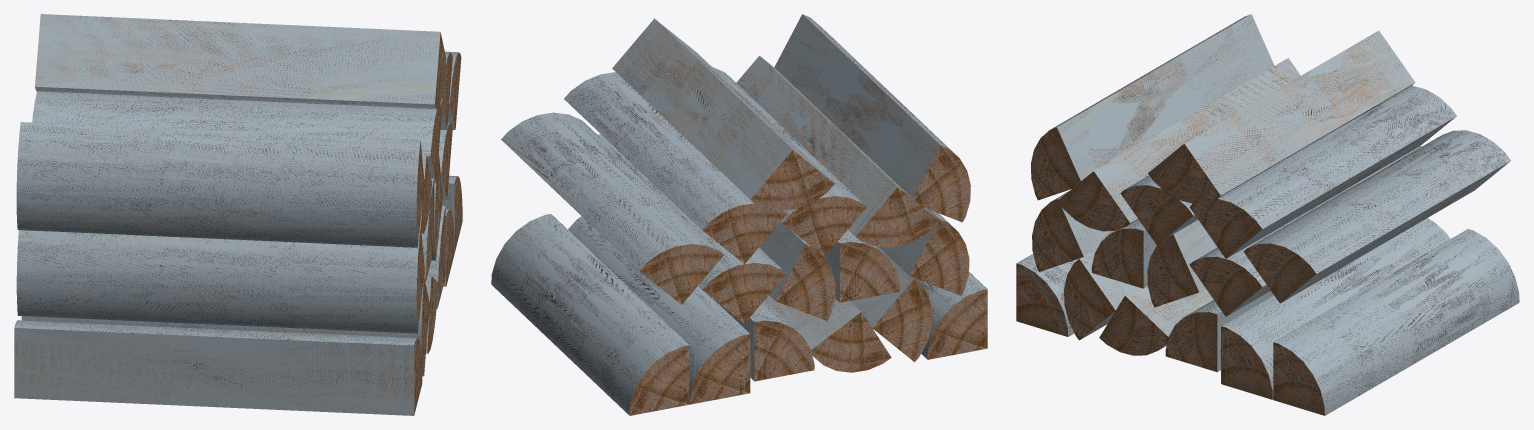
The model's file is Split_firewood_1.fbx.
3 renders of one model, left to right at view 1: azimuth 30°, elevation 25°; view 2: azimuth 150°, elevation 25°; view 3: azimuth 270°, elevation 25°, orthographic. The views are drawn at different scales.
Visible parts, largest first — view 1: Log16, Log6, Log1, Log15, Log10, Log2, Log4, Log12, Log9, Log5, Log13, Log3 (+4 smaller); view 2: Log12, Log13, Log15, Log16, Log14, Log11, Log8, Log3, Log7, Log9, Log10, Log1 (+4 smaller); view 3: Log12, Log13, Log15, Log16, Log14, Log8, Log11, Log3, Log7, Log9, Log1, Log2 (+4 smaller).
Part boxes in pixels (x1,y1,x2,y2): Log16: [16, 122, 424, 247]; Log6: [16, 225, 424, 333]; Log1: [14, 320, 422, 415]; Log15: [35, 14, 446, 109]; Log10: [32, 91, 441, 182]; Log2: [21, 277, 429, 376]; Log4: [427, 205, 445, 308]; Log12: [442, 175, 462, 252]; Log9: [438, 122, 452, 200]; Log5: [421, 178, 434, 281]; Log13: [445, 51, 461, 129]; Log3: [425, 275, 437, 353]; Log12: [491, 214, 689, 415]; Log13: [501, 112, 723, 304]; Log15: [612, 18, 834, 210]; Log16: [774, 14, 970, 222]; Log14: [564, 72, 786, 263]; Log11: [736, 55, 939, 247]; Log8: [568, 216, 750, 404]; Log3: [764, 295, 891, 372]; Log7: [759, 222, 835, 320]; Log9: [598, 134, 786, 323]; Log10: [712, 67, 866, 256]; Log1: [916, 272, 987, 359]; Log12: [1273, 229, 1519, 415]; Log13: [1243, 130, 1510, 303]; Log15: [1148, 30, 1415, 203]; Log16: [1031, 14, 1274, 200]; Log14: [1189, 85, 1456, 258]; Log8: [1221, 218, 1450, 399]; Log11: [1058, 58, 1300, 231]; Log3: [1099, 286, 1213, 355]; Log7: [1147, 219, 1217, 307]; Log9: [1189, 146, 1421, 316]; Log1: [1016, 254, 1078, 336]; Log2: [1064, 249, 1138, 340].
Size of the model in its own units: 26.74 by 13.74 by 27.34.
